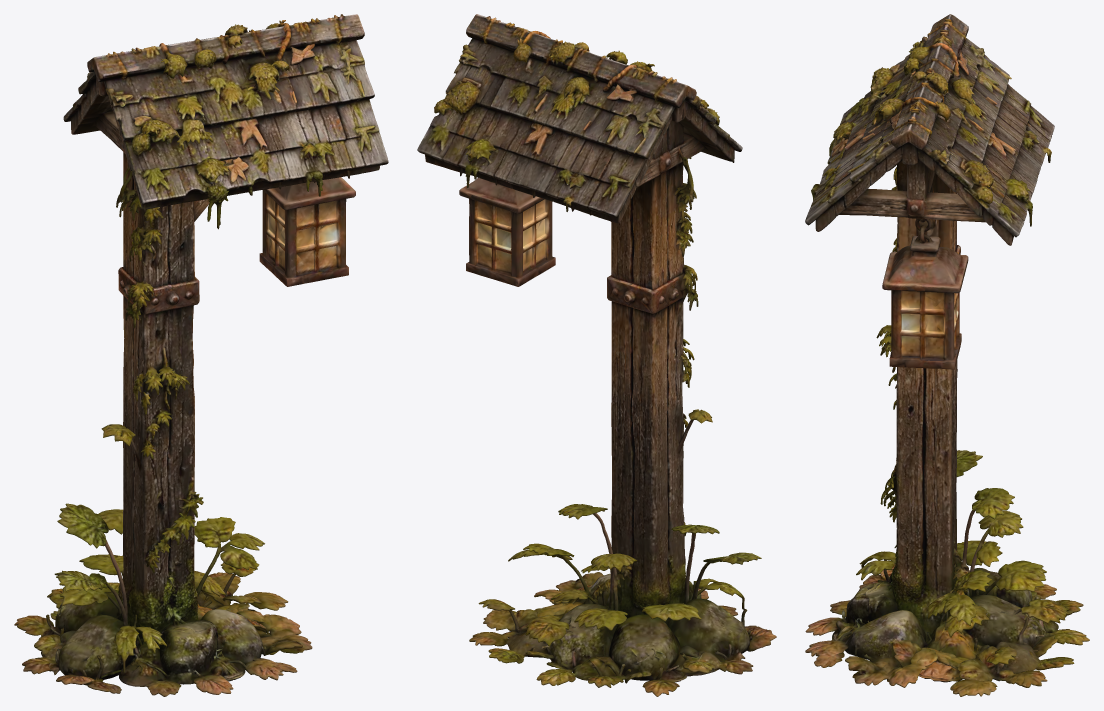
The model's file is lamp-rustic.glb.
The picture shows the model from 3 angles, left to right: view 1: azimuth 30°, elevation 25°; view 2: azimuth 150°, elevation 25°; view 3: azimuth 270°, elevation 25°; orthographic projection. The views are drawn at different scales.
Visible parts, largest first — view 1: tripo_node_1443341f-4c33-45f9-b541-8c4554635648; view 2: tripo_node_1443341f-4c33-45f9-b541-8c4554635648; view 3: tripo_node_1443341f-4c33-45f9-b541-8c4554635648.
Boxes of the visible parts, left/top/right/bottom form: tripo_node_1443341f-4c33-45f9-b541-8c4554635648: left=14, top=14, right=388, bottom=696; tripo_node_1443341f-4c33-45f9-b541-8c4554635648: left=417, top=14, right=776, bottom=696; tripo_node_1443341f-4c33-45f9-b541-8c4554635648: left=805, top=14, right=1089, bottom=696.
Size of the model in its own units: 0.5404 by 0.9818 by 0.4253.
1 material, 1 textured.
